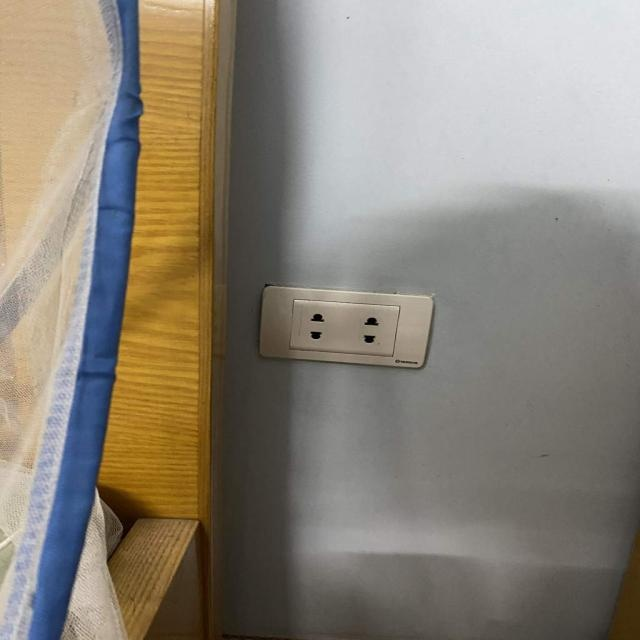outlet: (258, 285, 434, 369)
